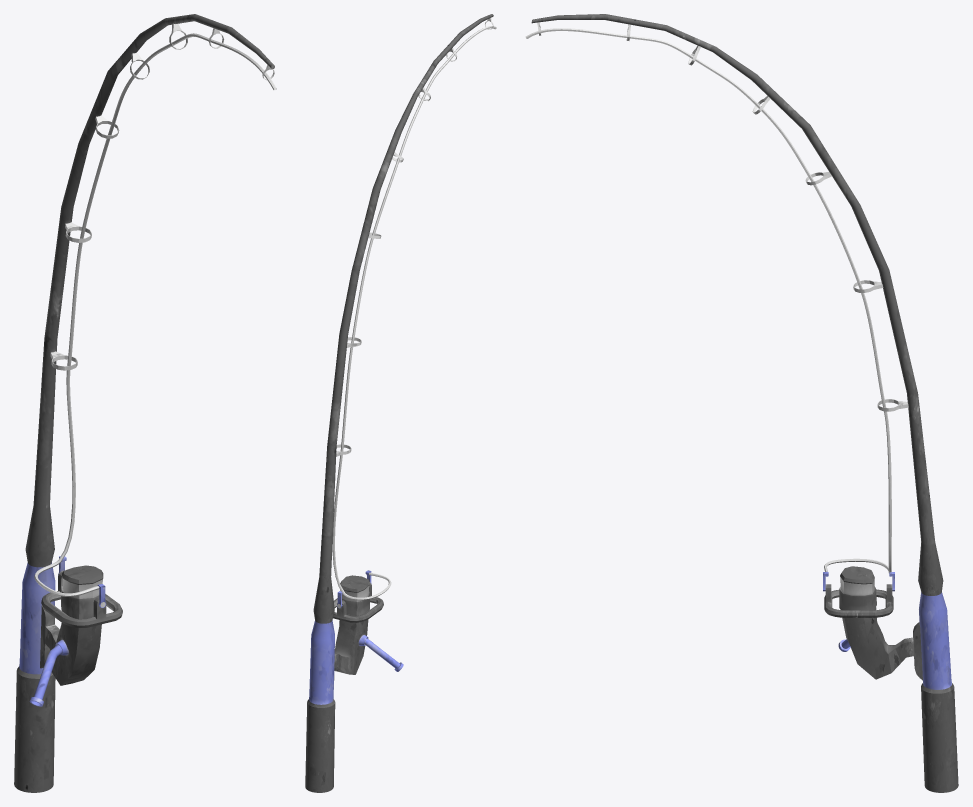
File: Rod3.fbx
The picture shows the model from 3 angles, left to right: view 1: azimuth 30°, elevation 25°; view 2: azimuth 150°, elevation 25°; view 3: azimuth 270°, elevation 25°; orthographic projection. The views are drawn at different scales.
Parts seen in each view (by area): view 1: Rod3; view 2: Rod3; view 3: Rod3.
Part boxes in pixels (<box>): Rod3: <box>14,14,276,792</box>; Rod3: <box>305,14,496,792</box>; Rod3: <box>525,14,958,792</box>.
Bounding box in the file's own units: 73.08 × 710 × 361.
